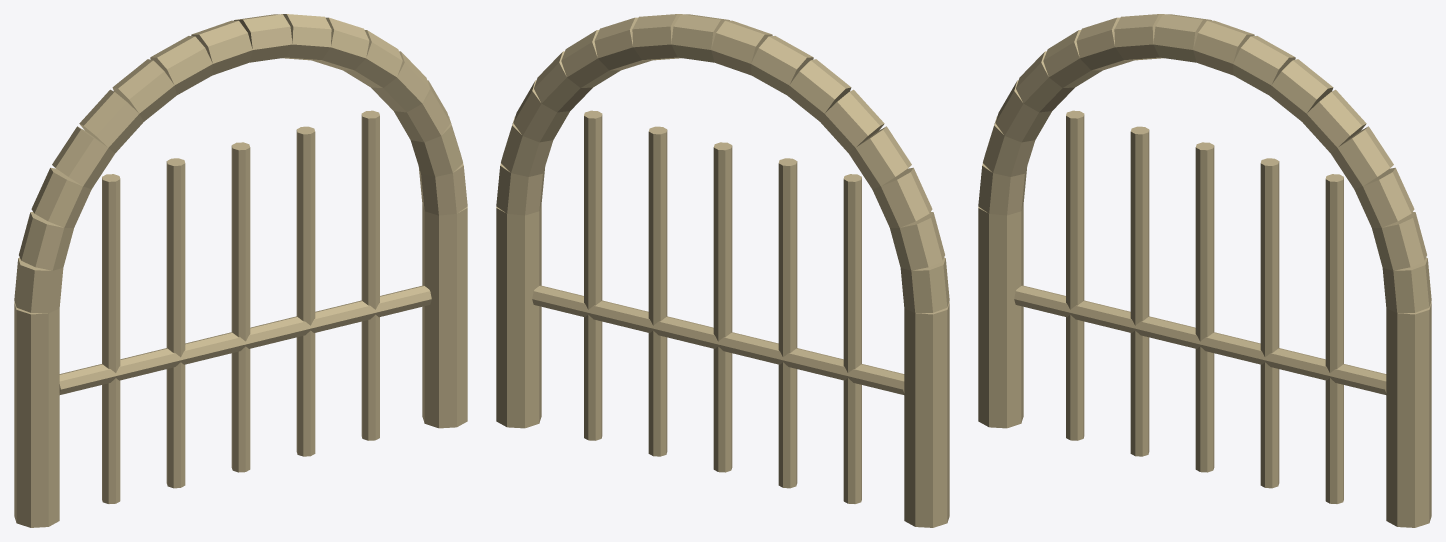
File: haunted-prepositions.glb
3 renders of one model, left to right at view 1: azimuth 30°, elevation 25°; view 2: azimuth 150°, elevation 25°; view 3: azimuth 330°, elevation 25°, orthographic.
Parts seen in each view (by area): view 1: Gate pillar.002; view 2: Gate pillar.002; view 3: Gate pillar.002.
Part boxes in pixels (left/top/right/bottom): Gate pillar.002: left=14, top=14, right=467, bottom=527; Gate pillar.002: left=496, top=14, right=949, bottom=527; Gate pillar.002: left=978, top=14, right=1431, bottom=527.
Size of the model in its own units: 0.0242 by 0.0231 by 0.0022.
